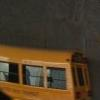Bus: (2, 39, 86, 100)
